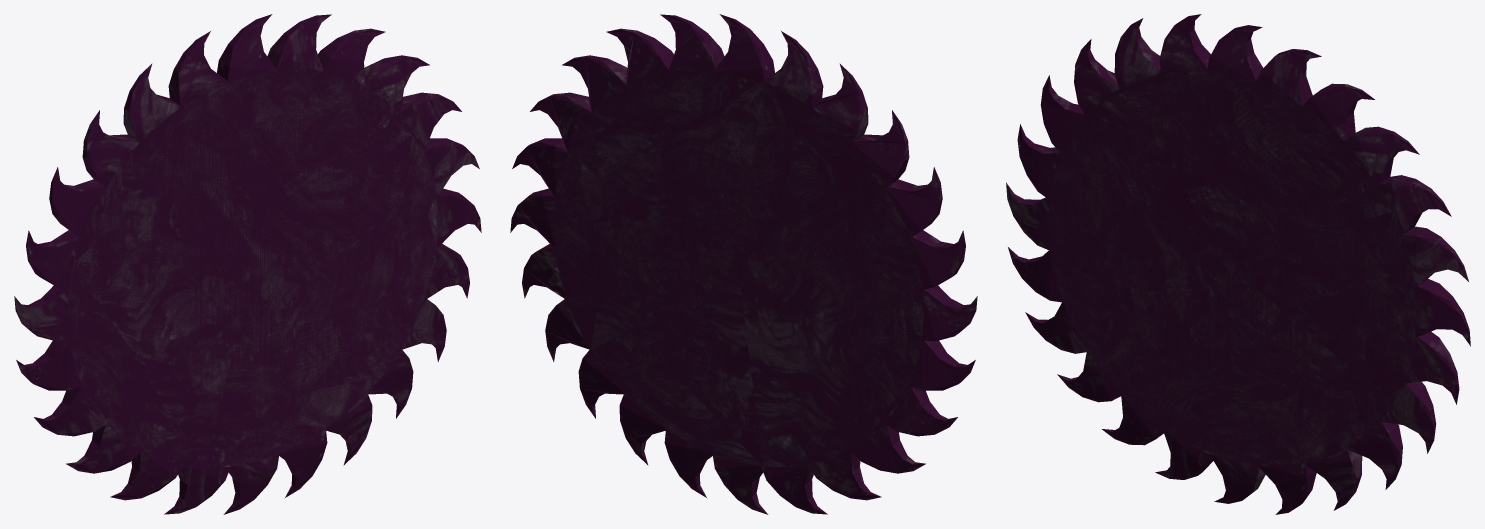
The model's file is aspa.obj.
3 views of the same model, side by side, from view 1: azimuth 30°, elevation 25°; view 2: azimuth 150°, elevation 25°; view 3: azimuth 330°, elevation 25° (orthographic).
Parts seen in each view (by area): view 1: mac_aspa_gl; view 2: mac_aspa_gl; view 3: mac_aspa_gl.
Boxes of the visible parts, <box> form: mac_aspa_gl: <box>14,14,481,514</box>; mac_aspa_gl: <box>510,14,977,514</box>; mac_aspa_gl: <box>1006,14,1470,514</box>.
Bounding box in the file's own units: 2.52 × 2.52 × 0.1.
1 material, 1 textured.
